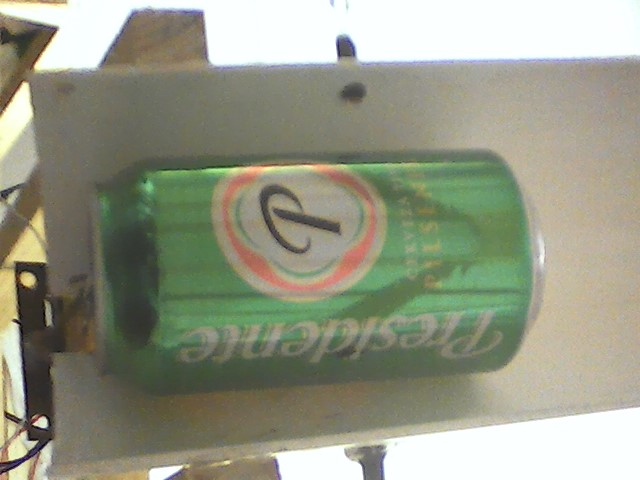lata: (87, 146, 554, 405)
